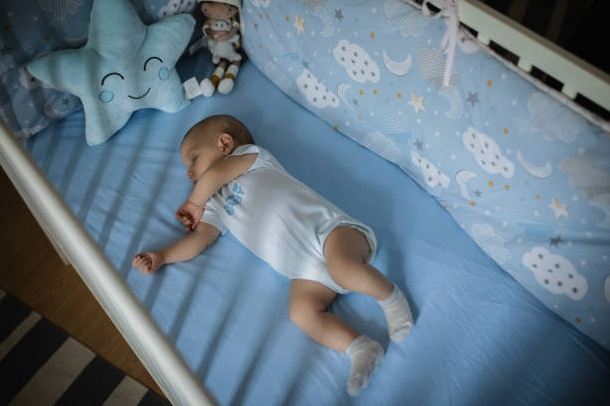baby: (132, 115, 412, 395)
crib: (0, 0, 609, 404)
